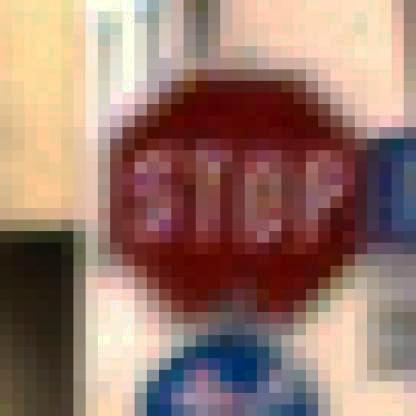Stop Sign: (92, 57, 380, 318)
